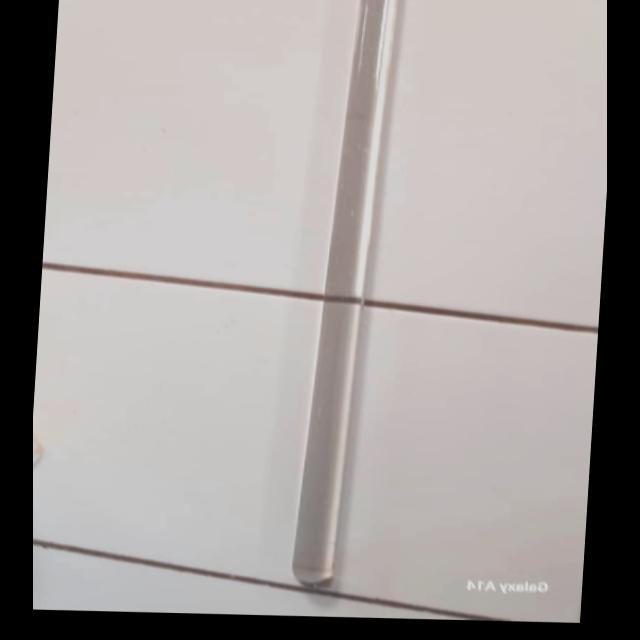Stirrer: (289, 0, 414, 602)
